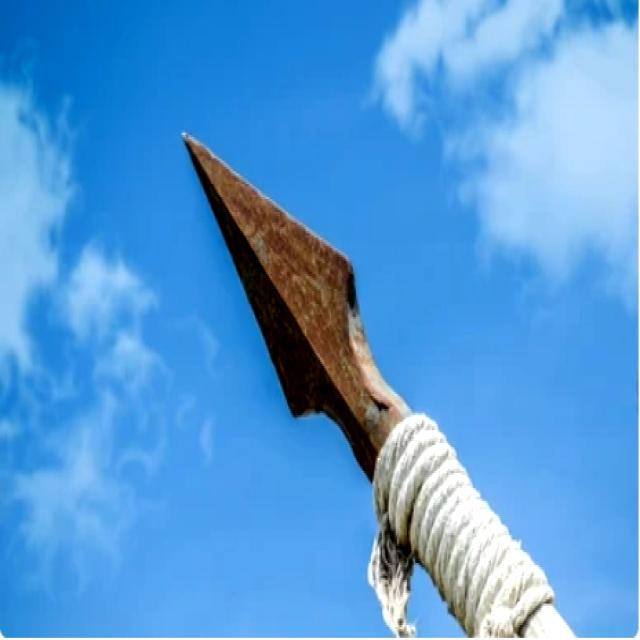spear: (173, 120, 582, 639)
